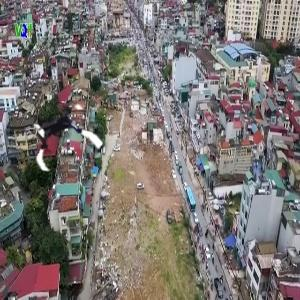drone: (24, 101, 102, 179)
